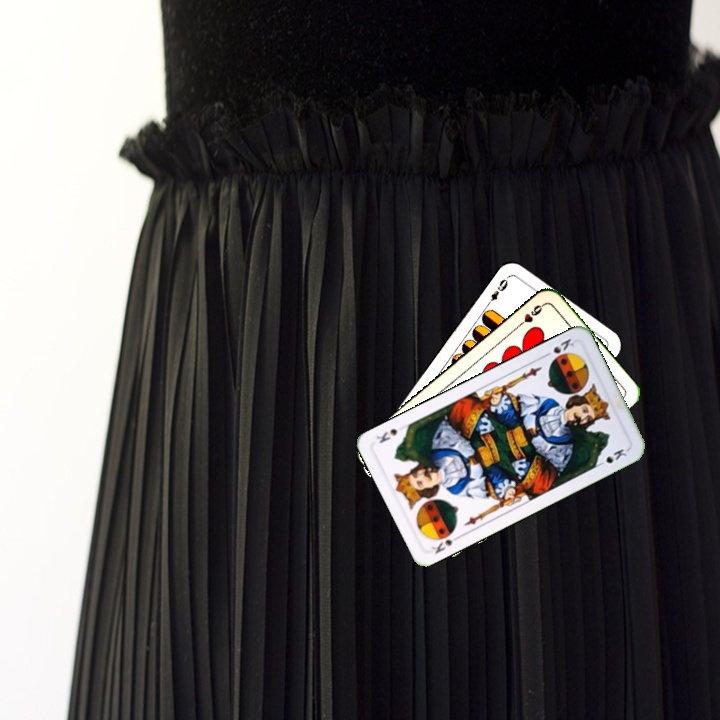E9: (483, 274, 511, 309)
H9: (513, 300, 547, 330)
SK: (539, 334, 577, 364), (428, 526, 464, 556)
